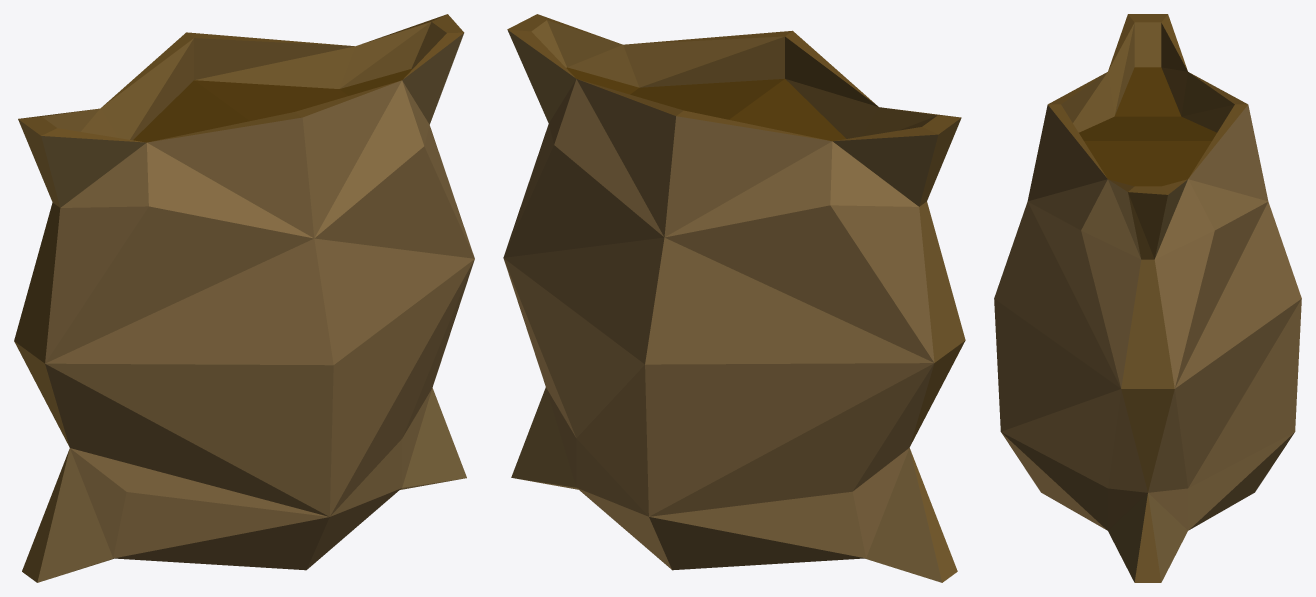
Rendered from herb-sack.gltf.
The picture shows the model from 3 angles, left to right: view 1: azimuth 30°, elevation 25°; view 2: azimuth 150°, elevation 25°; view 3: azimuth 270°, elevation 25°; orthographic projection. The views are drawn at different scales.
Size of the model in its own units: 64 by 64 by 46.
1 material, 1 textured.
